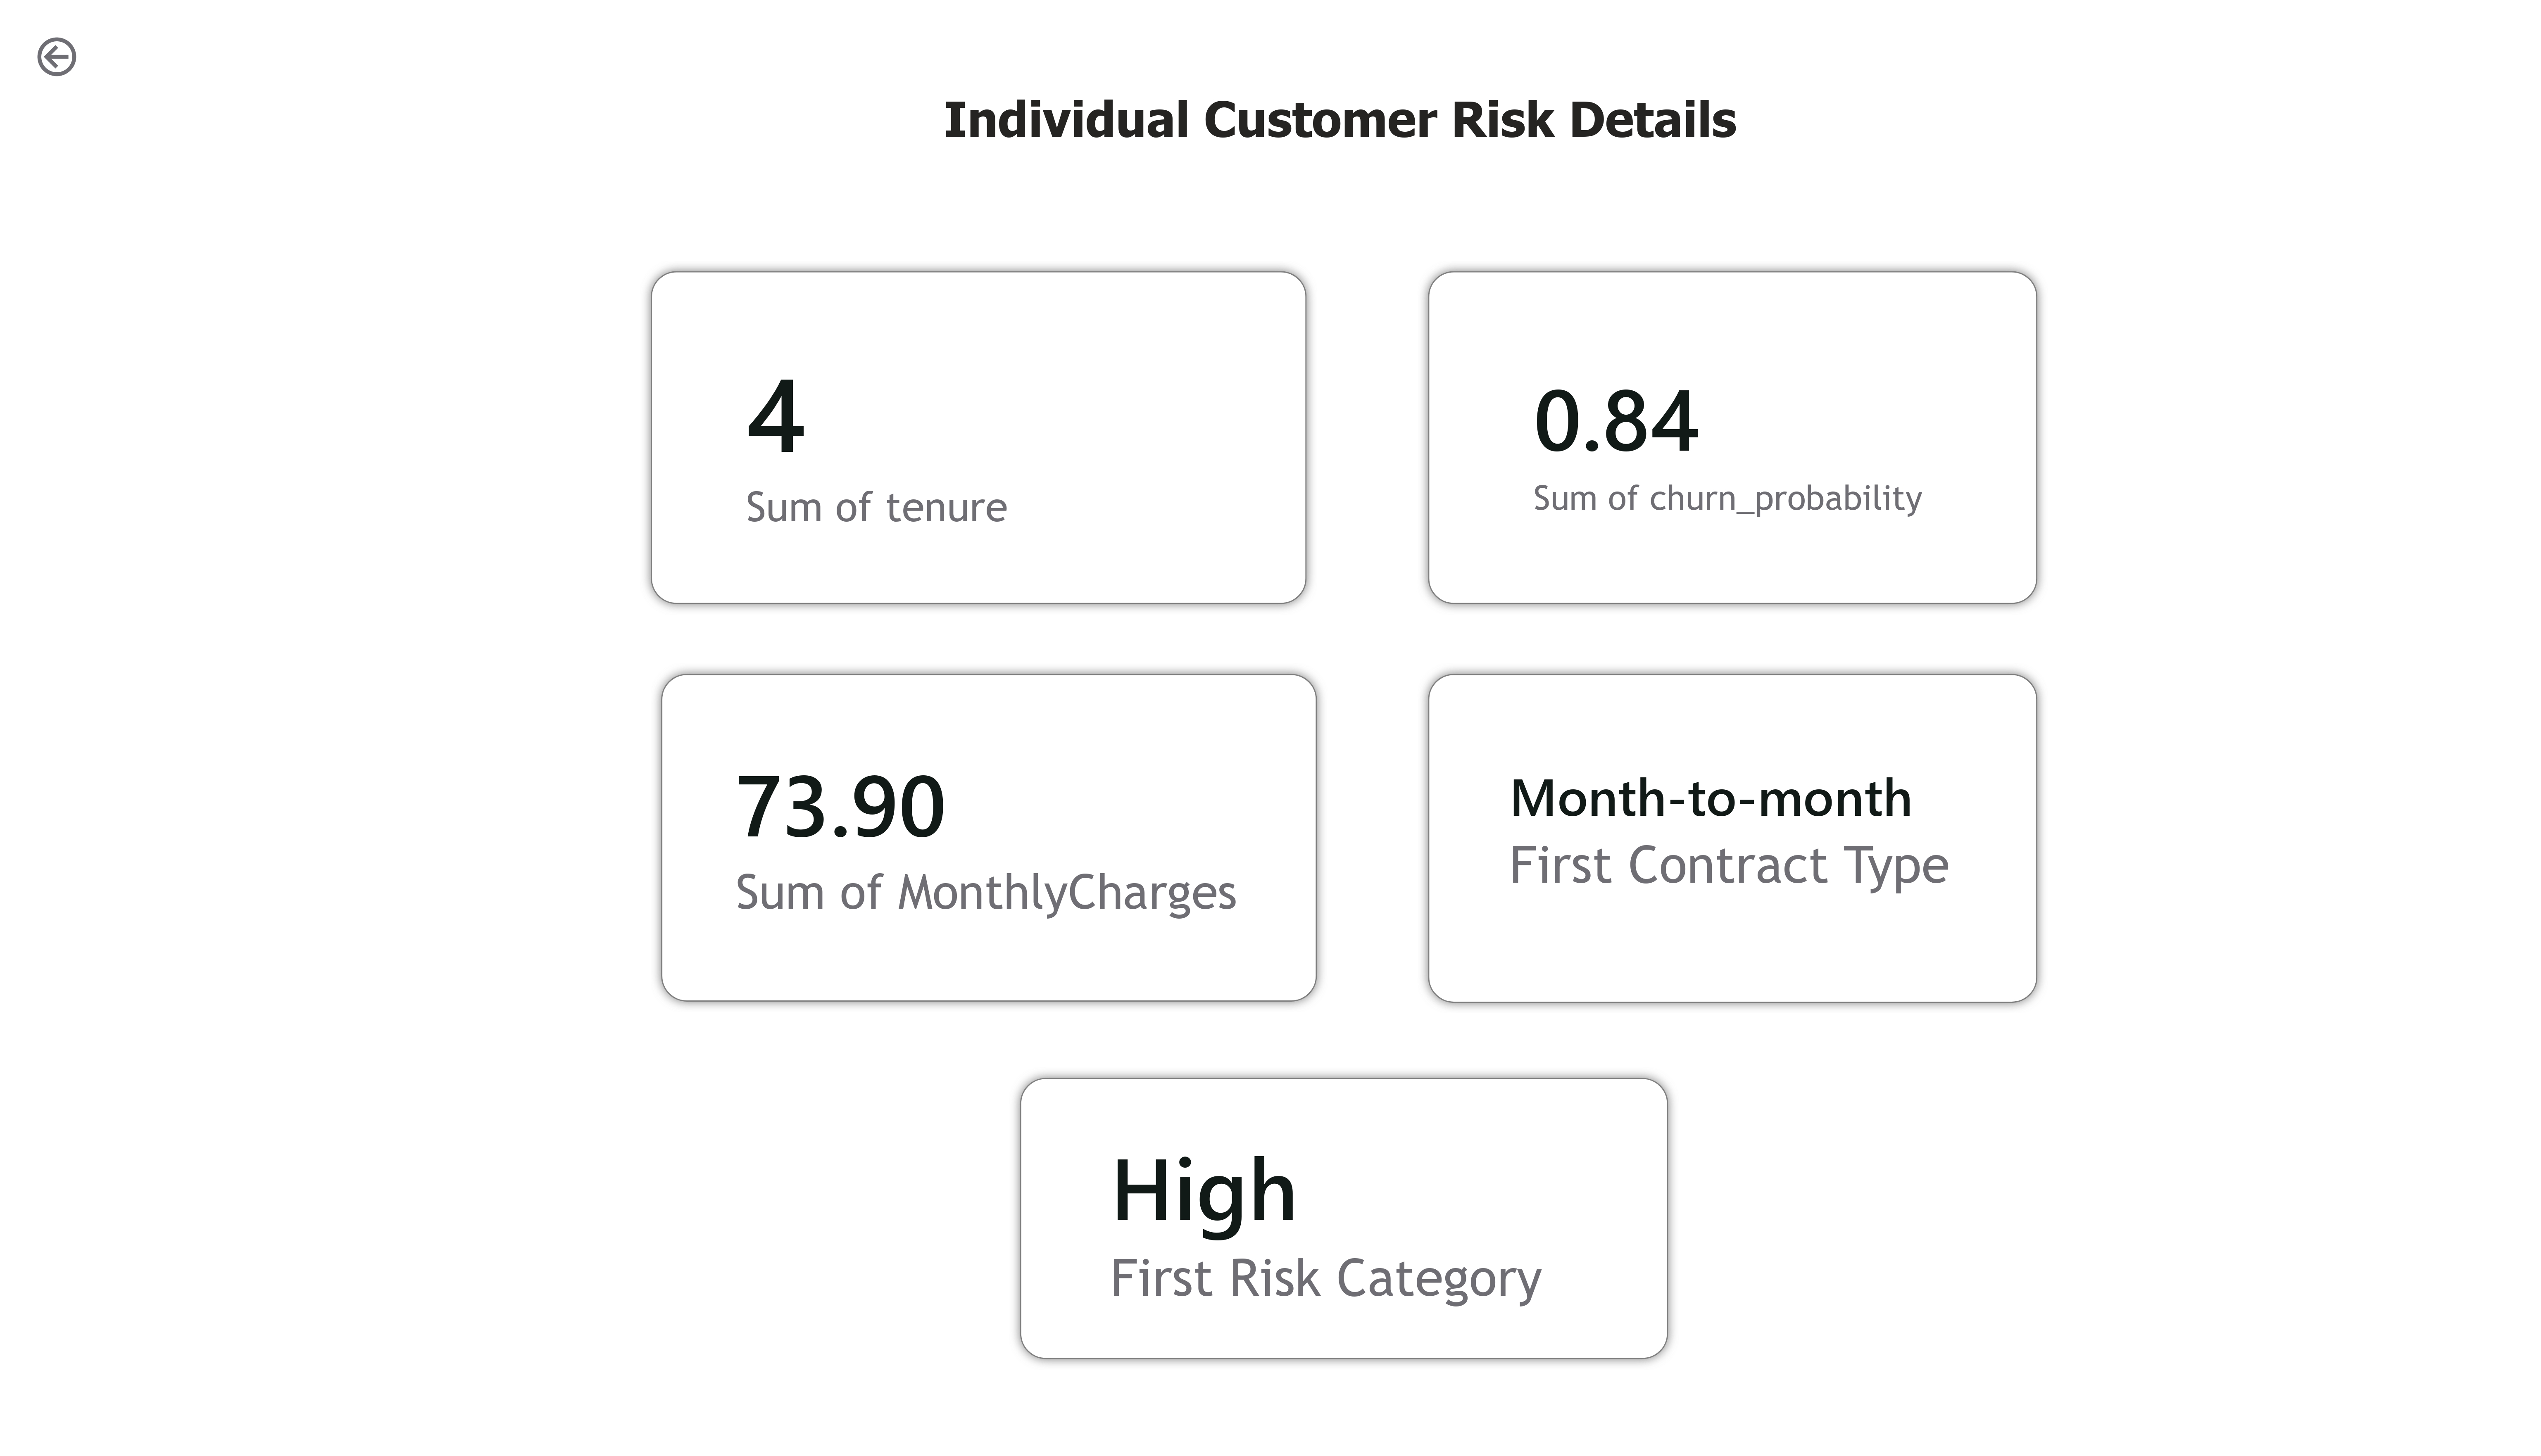

The page's visual inventory and layout, read from the dashboard file:
{"tool":"powerbi","page":{"name":"Page 2","canvas":[1920,1080],"ordinal":1},"visuals":[{"type":"actionButton","box":[0,0,100,40],"z":0},{"type":"shape","box":[472,178,524,274],"z":0,"group":"g1"},{"type":"shape","box":[1074,178,488,274],"z":0,"group":"g4"},{"type":"shape","box":[480,490,524,270],"z":0,"group":"g2"},{"type":"shape","box":[1074,490,487.8,270.8],"z":0,"group":"g3"},{"type":"shape","box":[757.5,802.5,518,234],"z":0,"group":"g5"},{"type":"group","id":"g1","title":"Group 2","box":[472,178,524,274],"z":1000},{"type":"cardVisual","fields":{"Data":["Sum(churn_predictions_for_powerbi.tenure)"]},"box":[524,204,436,218],"z":1000,"group":"g1"},{"type":"cardVisual","fields":{"Data":["Sum(churn_predictions_for_powerbi.churn_probability)"]},"box":[1134,206,386,218],"z":1000,"group":"g4"},{"type":"cardVisual","fields":{"Data":["Sum(churn_predictions_for_powerbi.MonthlyCharges)"]},"box":[516,508,460,224],"z":1000,"group":"g2"},{"type":"cardVisual","fields":{"Data":["Min(churn_predictions_for_powerbi.Contract Type)"]},"box":[1114.7,520,422.9,193.3],"z":1000,"group":"g3"},{"type":"cardVisual","fields":{"Data":["Min(churn_predictions_for_powerbi.Risk Category)"]},"box":[805,830,425,177.5],"z":1000,"group":"g5"},{"type":"group","id":"g2","title":"Group 2","box":[480,490,524,270],"z":2000},{"type":"group","id":"g3","title":"Group 2","box":[1074,490,488,270],"z":3000},{"type":"group","id":"g4","title":"Group 2","box":[1074,178,488,274],"z":4000},{"type":"group","id":"g5","title":"Group 2","box":[757.5,802.5,517.5,232.5],"z":5000},{"type":"textbox","box":[672.5,40,682.5,110],"z":6000}]}

Visuals, with their boxes on the page's 1920x1080 design canvas (x1, y1, x2, y2). These are canvas units, not pixel positions in the 2541x1456 screenshot, which may show the page scaled, cropped or inside an application window:
actionButton: locate(0, 0, 100, 40)
shape: locate(472, 178, 996, 452)
shape: locate(1074, 178, 1562, 452)
shape: locate(480, 490, 1004, 760)
shape: locate(1074, 490, 1562, 761)
shape: locate(758, 802, 1276, 1036)
"Group 2" group: locate(472, 178, 996, 452)
cardVisual - Sum(churn_predictions_for_powerbi.tenure): locate(524, 204, 960, 422)
cardVisual - Sum(churn_predictions_for_powerbi.churn_probability): locate(1134, 206, 1520, 424)
cardVisual - Sum(churn_predictions_for_powerbi.MonthlyCharges): locate(516, 508, 976, 732)
cardVisual - Min(churn_predictions_for_powerbi.Contract Type): locate(1115, 520, 1538, 713)
cardVisual - Min(churn_predictions_for_powerbi.Risk Category): locate(805, 830, 1230, 1008)
"Group 2" group: locate(480, 490, 1004, 760)
"Group 2" group: locate(1074, 490, 1562, 760)
"Group 2" group: locate(1074, 178, 1562, 452)
"Group 2" group: locate(758, 802, 1275, 1035)
textbox: locate(672, 40, 1355, 150)
